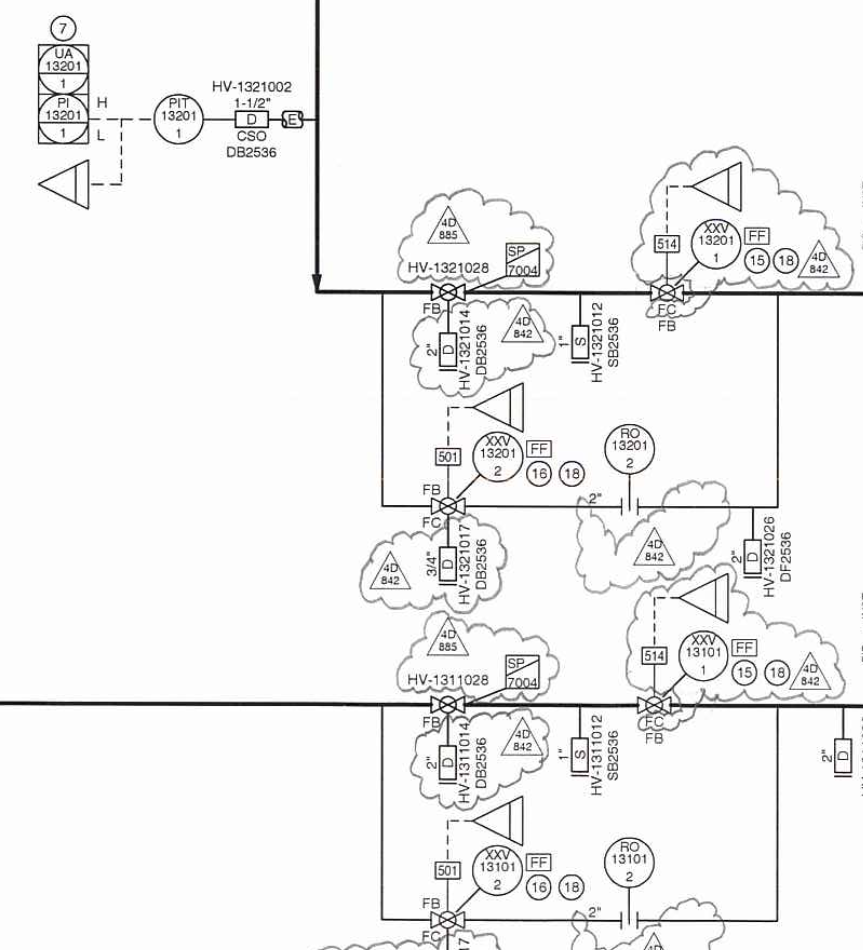Instrument: (596, 419, 666, 481), (464, 426, 528, 490), (464, 840, 525, 900), (684, 214, 747, 272), (153, 88, 207, 153), (674, 626, 733, 685), (603, 832, 659, 892)
Instrument-square: (28, 41, 96, 95), (31, 93, 91, 149)
